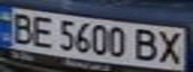0: (109, 24, 130, 58), (90, 21, 109, 56)
5: (54, 17, 78, 53)
6: (72, 20, 93, 55)
B: (3, 10, 39, 45), (130, 26, 163, 63)
E: (27, 14, 57, 48)
X: (154, 29, 187, 65)
